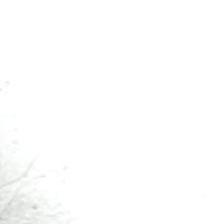Non_Crack: (19, 45, 224, 190)
